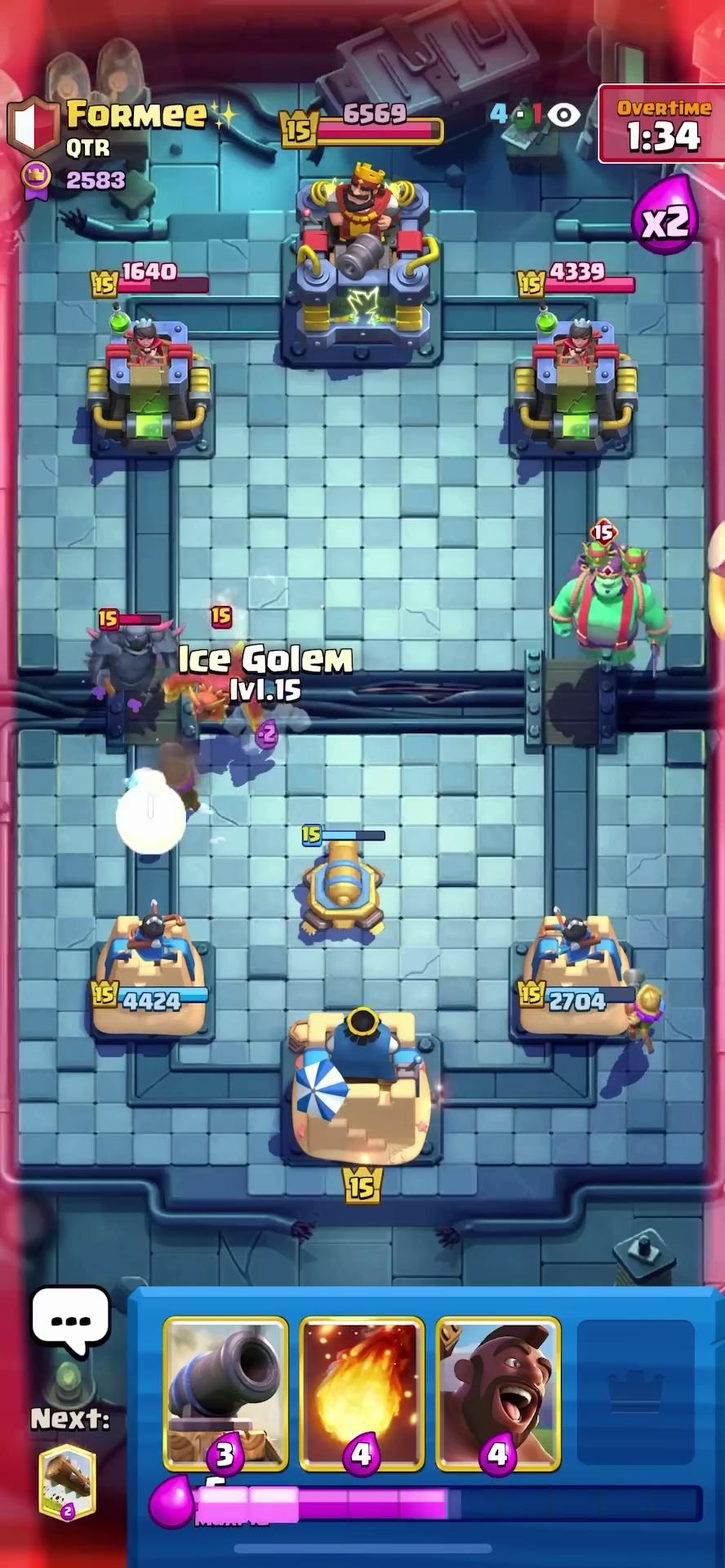cannon: (288, 815, 400, 951)
ice_spirit: (125, 755, 173, 802)
musketeer: (620, 964, 696, 1066), (153, 723, 214, 811)
